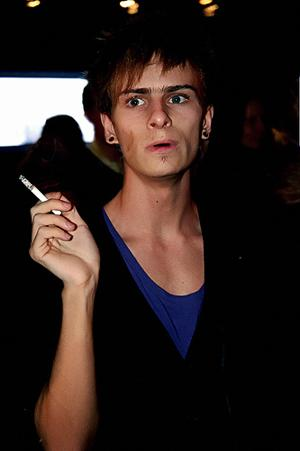person: (24, 18, 282, 448)
